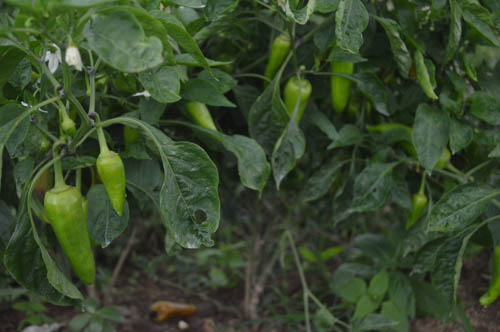ChiliPepper: (45, 187, 99, 284), (86, 155, 132, 211), (327, 56, 353, 110), (184, 101, 216, 133), (263, 41, 289, 77), (288, 84, 311, 118)
